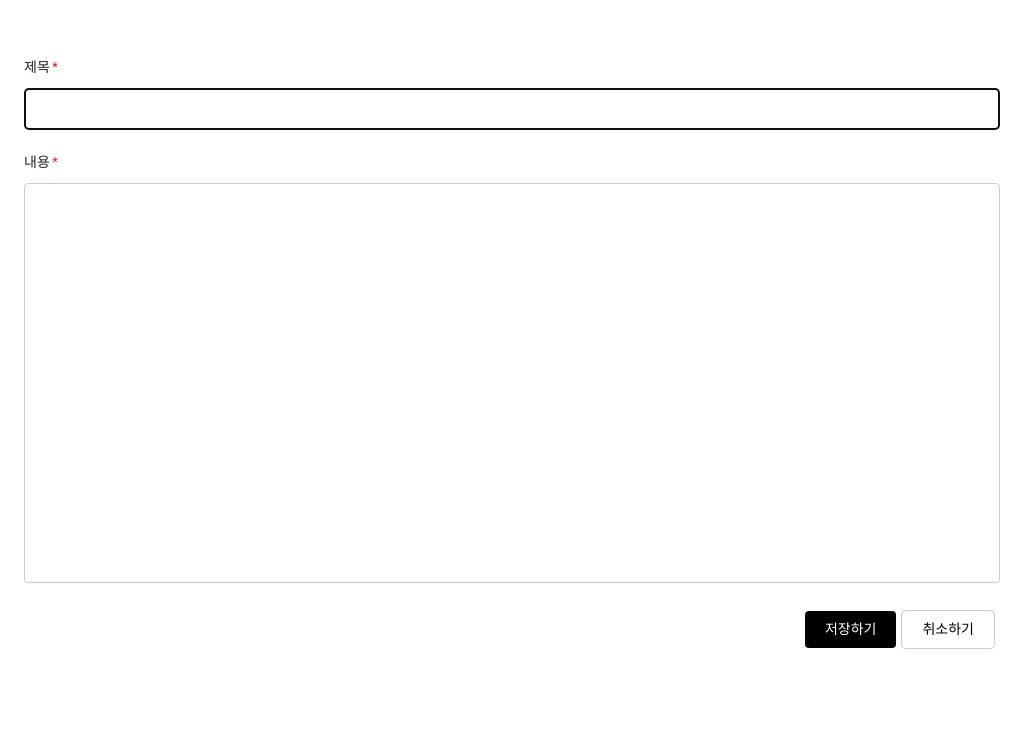
Test: 게시글 작성 페이지 › 양식 제출 › 빈 양식을 제출할 경우 에러 메세지들을 보여준다.
(page scrolled)
Click the button "저장하기": (851, 630) [805,611,897,648]
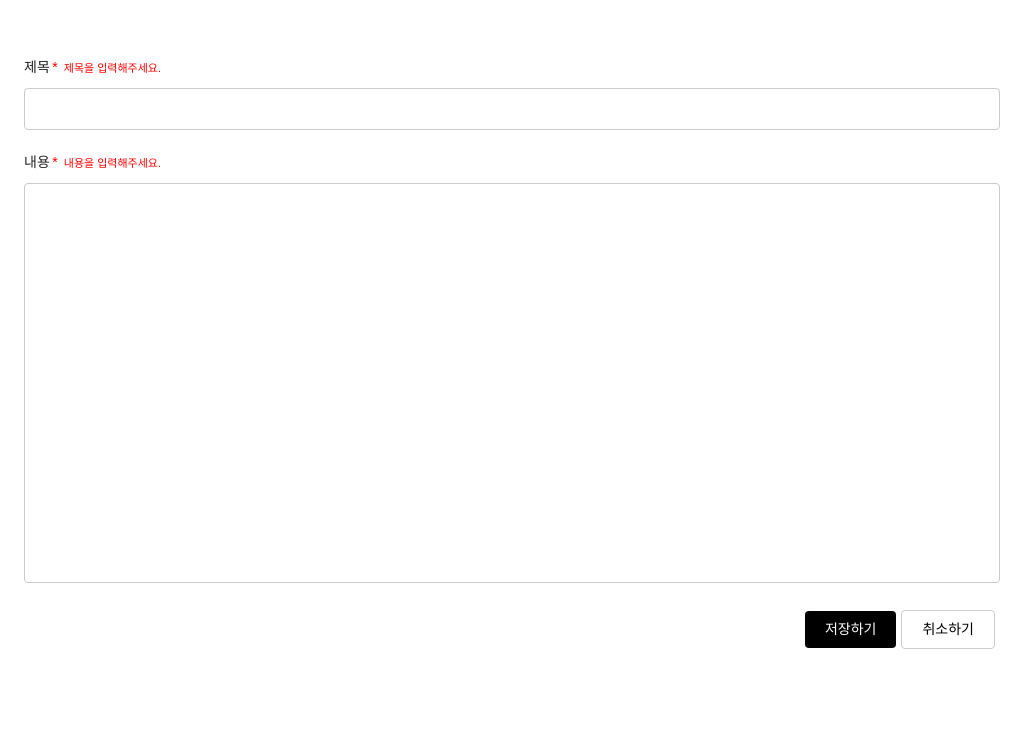
Expected: the number of elements with class "message--error" is 2, [64,62,161,74]; [64,157,161,169]
Expected: the text "제목을 입력해주세요." is shown, [64,62,161,74]
Expected: the text "내용을 입력해주세요." is shown, [64,157,161,169]
